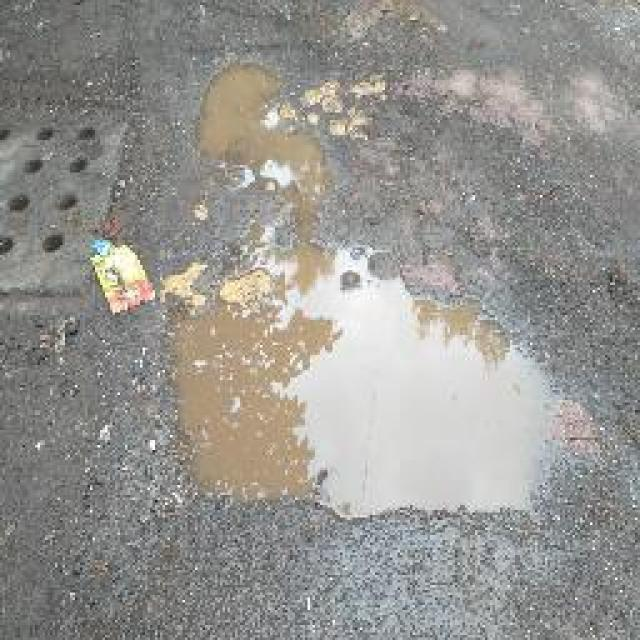puddle: (177, 253, 542, 501), (197, 63, 334, 208)
